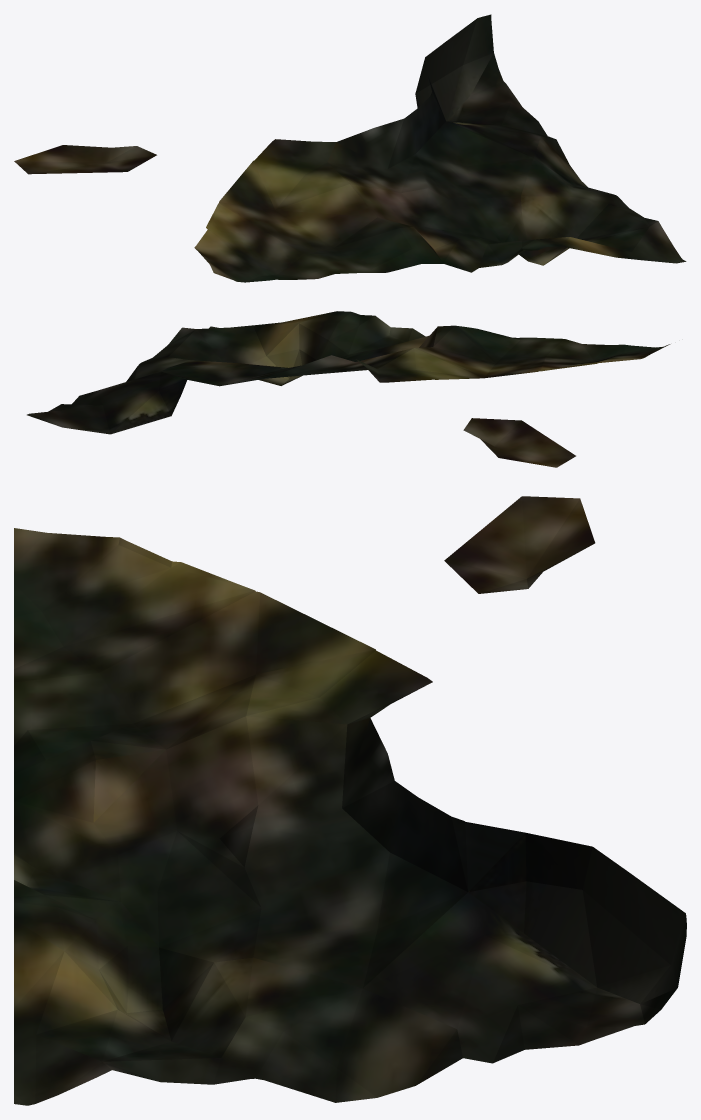
The picture shows the model from 3 angles, top to bottom: view 1: azimuth 30°, elevation 25°; view 2: azimuth 150°, elevation 25°; view 3: azimuth 270°, elevation 25°; orthographic projection. The views are drawn at different scales.
Bounding box in the file's own units: 0.7139 × 0.1404 × 0.4733.
Materials: 1 (1 with a texture image).
